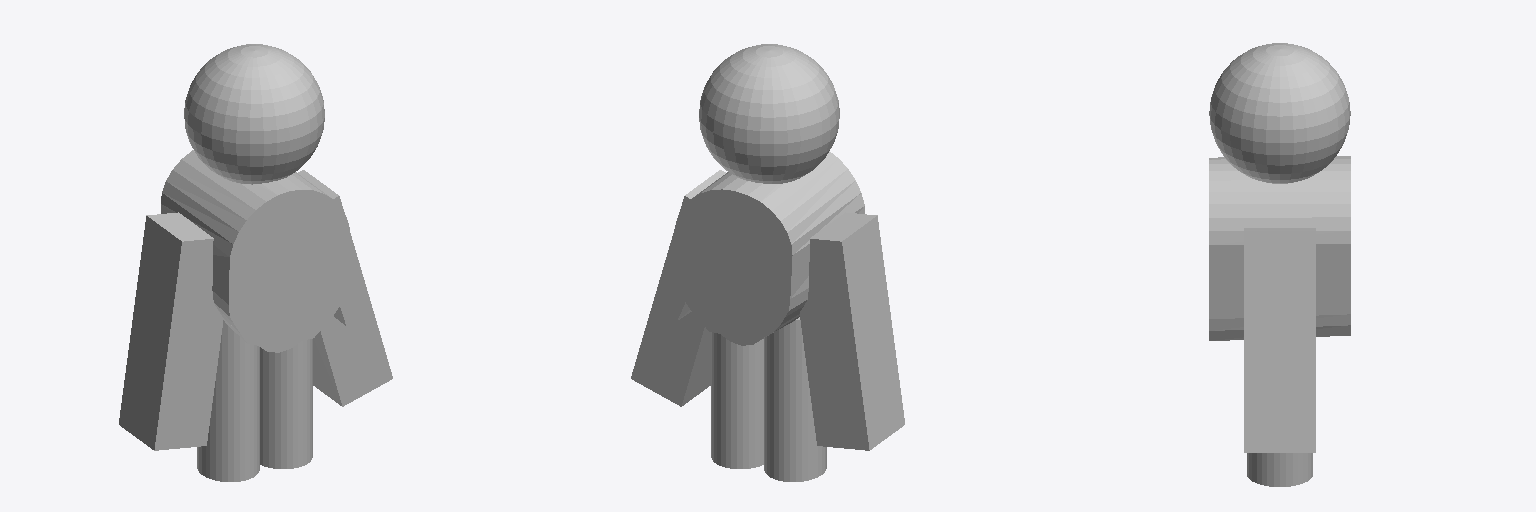
The model's file is Figurine6.obj.
3 views of the same model, side by side, from view 1: azimuth 30°, elevation 25°; view 2: azimuth 150°, elevation 25°; view 3: azimuth 270°, elevation 25° (orthographic).
Visible parts, largest first — view 1: Cylinder; view 2: Cylinder; view 3: Cylinder.
Part boxes in pixels (left/top/right/bottom): Cylinder: left=119, top=44, right=392, bottom=481; Cylinder: left=631, top=44, right=904, bottom=481; Cylinder: left=1209, top=43, right=1350, bottom=486.
Bounding box in the file's own units: 3.9 × 6.42 × 2.